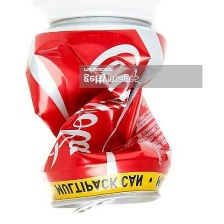can: (19, 12, 174, 216)
